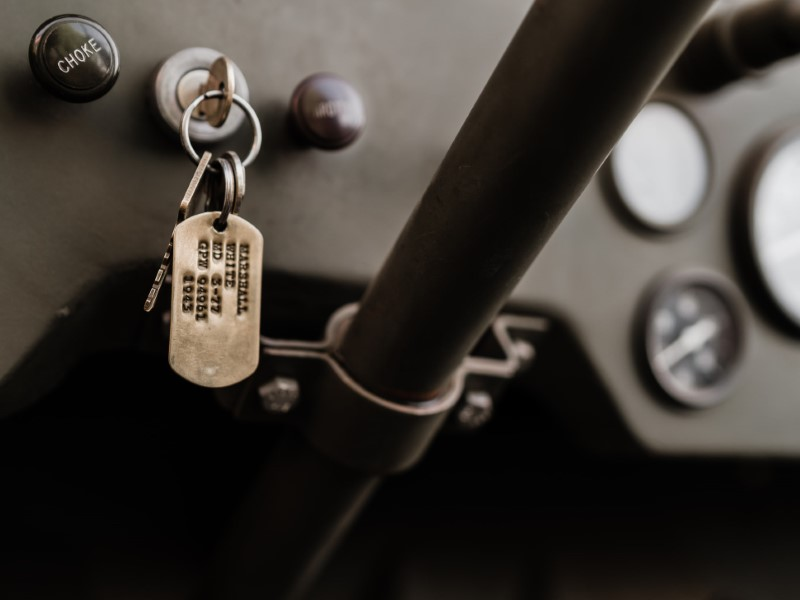key: (140, 146, 270, 391)
